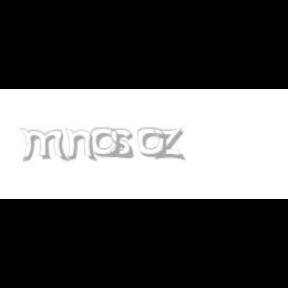m: (18, 128, 70, 162)
n: (64, 128, 98, 162)
o: (90, 128, 119, 158), (138, 128, 166, 158)
s: (110, 128, 138, 160)
z: (151, 128, 187, 160)
